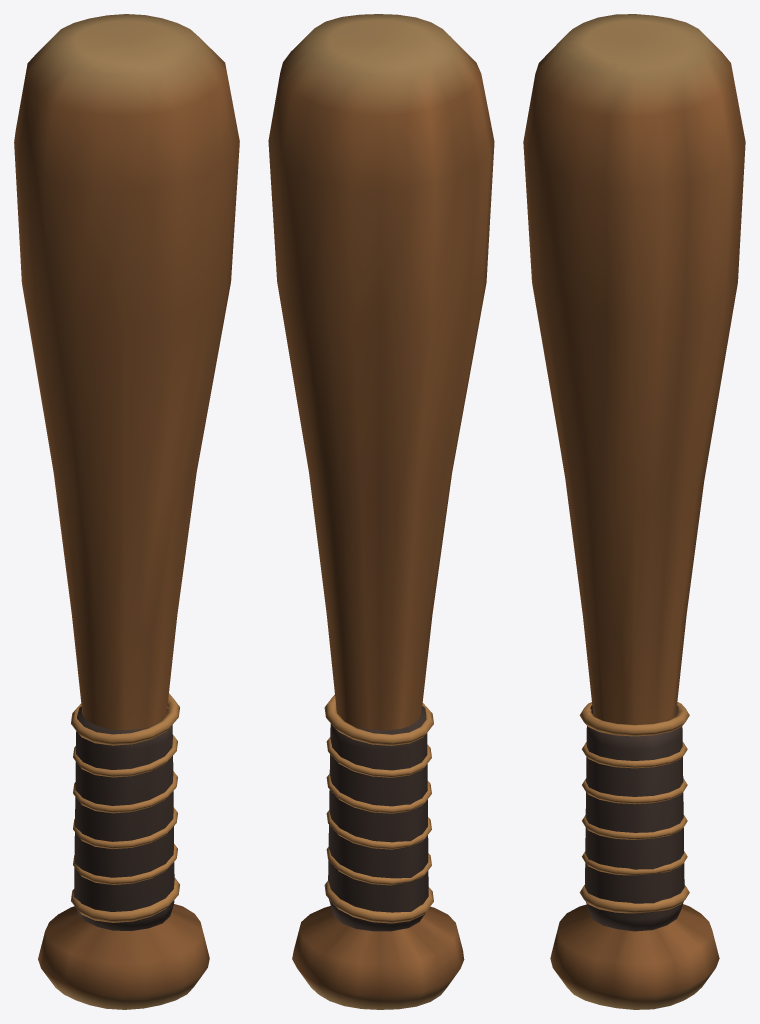
File: sahur-bat.glb
3 views of the same model, side by side, from view 1: azimuth 30°, elevation 25°; view 2: azimuth 150°, elevation 25°; view 3: azimuth 270°, elevation 25° (orthographic).
Parts seen in each view (by area): view 1: Sahur_Projectile_Turned_Maple, Sahur_Projectile_Grip, Sahur_Projectile_Lashing_5, Sahur_Projectile_Lashing_0, Sahur_Projectile_Lashing_4, Sahur_Projectile_Lashing_3, Sahur_Projectile_Lashing_2, Sahur_Projectile_Lashing_1; view 2: Sahur_Projectile_Turned_Maple, Sahur_Projectile_Grip, Sahur_Projectile_Lashing_5, Sahur_Projectile_Lashing_0, Sahur_Projectile_Lashing_4, Sahur_Projectile_Lashing_3, Sahur_Projectile_Lashing_2, Sahur_Projectile_Lashing_1; view 3: Sahur_Projectile_Turned_Maple, Sahur_Projectile_Grip, Sahur_Projectile_Lashing_5, Sahur_Projectile_Lashing_0, Sahur_Projectile_Lashing_4, Sahur_Projectile_Lashing_3, Sahur_Projectile_Lashing_2, Sahur_Projectile_Lashing_1.
Part boxes in pixels (bbox=[...]): Sahur_Projectile_Turned_Maple: bbox=[14, 14, 239, 1009]; Sahur_Projectile_Grip: bbox=[74, 706, 174, 930]; Sahur_Projectile_Lashing_5: bbox=[71, 693, 179, 745]; Sahur_Projectile_Lashing_0: bbox=[71, 878, 179, 922]; Sahur_Projectile_Lashing_4: bbox=[73, 735, 177, 777]; Sahur_Projectile_Lashing_3: bbox=[73, 771, 177, 813]; Sahur_Projectile_Lashing_2: bbox=[73, 807, 177, 849]; Sahur_Projectile_Lashing_1: bbox=[73, 844, 177, 884]; Sahur_Projectile_Turned_Maple: bbox=[268, 14, 494, 1009]; Sahur_Projectile_Grip: bbox=[328, 706, 428, 931]; Sahur_Projectile_Lashing_5: bbox=[324, 694, 433, 745]; Sahur_Projectile_Lashing_0: bbox=[324, 881, 433, 923]; Sahur_Projectile_Lashing_4: bbox=[326, 737, 431, 777]; Sahur_Projectile_Lashing_3: bbox=[326, 774, 431, 813]; Sahur_Projectile_Lashing_2: bbox=[326, 810, 431, 849]; Sahur_Projectile_Lashing_1: bbox=[326, 847, 431, 885]; Sahur_Projectile_Turned_Maple: bbox=[523, 14, 745, 1009]; Sahur_Projectile_Grip: bbox=[585, 705, 684, 931]; Sahur_Projectile_Lashing_5: bbox=[579, 702, 689, 736]; Sahur_Projectile_Lashing_0: bbox=[579, 885, 689, 913]; Sahur_Projectile_Lashing_4: bbox=[582, 742, 687, 768]; Sahur_Projectile_Lashing_3: bbox=[582, 778, 687, 804]; Sahur_Projectile_Lashing_2: bbox=[582, 815, 687, 839]; Sahur_Projectile_Lashing_1: bbox=[582, 851, 687, 875].
Size of the model in its own units: 0.218 by 0.996 by 0.2136.
